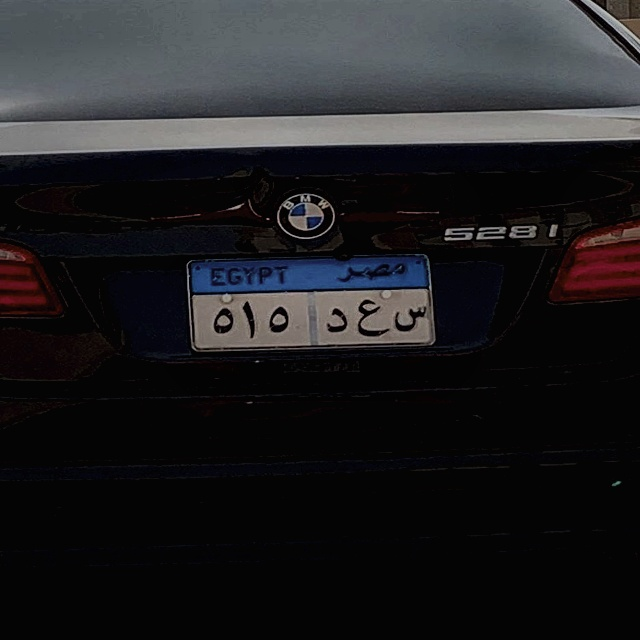License Plate: (184, 252, 439, 355)
